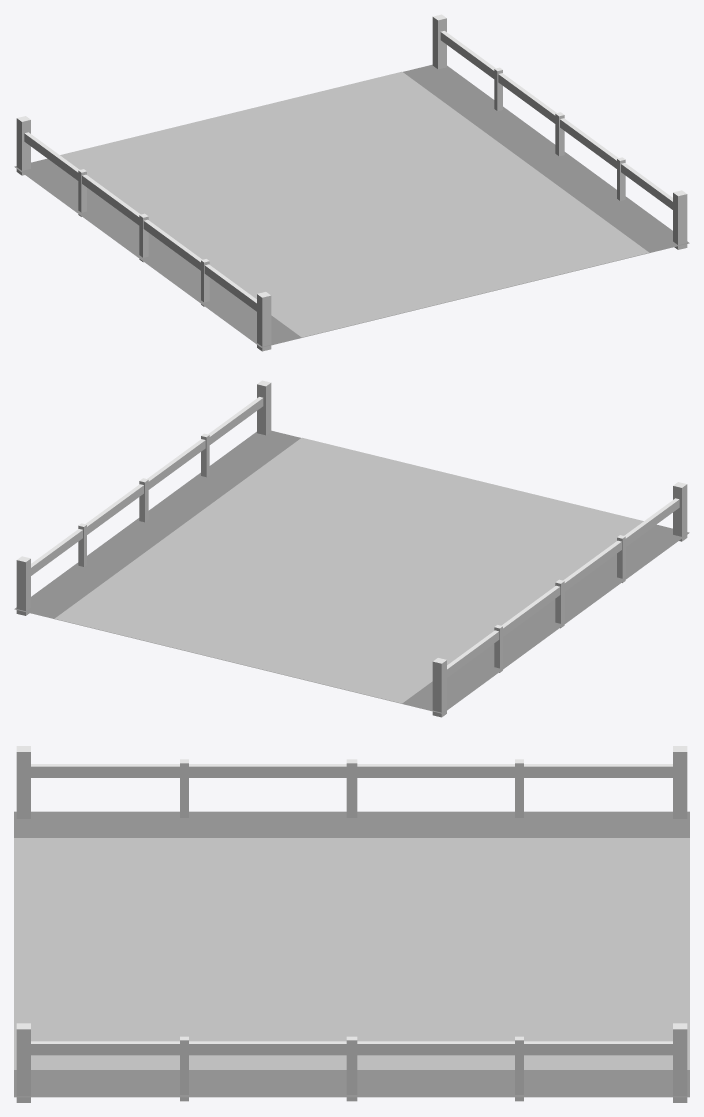
File: tile_for_home_1x1_018.glb
3 views of the same model, one above another, from view 1: azimuth 30°, elevation 25°; view 2: azimuth 150°, elevation 25°; view 3: azimuth 270°, elevation 25° (orthographic). The views are drawn at different scales.
Parts seen in each view (by area): view 1: tile_for_home_1x1_018; view 2: tile_for_home_1x1_018; view 3: tile_for_home_1x1_018.
Boxes of the visible parts, bbox=[...] form: tile_for_home_1x1_018: bbox=[14, 14, 689, 351]; tile_for_home_1x1_018: bbox=[14, 380, 689, 717]; tile_for_home_1x1_018: bbox=[14, 746, 689, 1102].
Size of the model in its own units: 8 by 0.959 by 8.
Materials: 1 (1 with a texture image).
